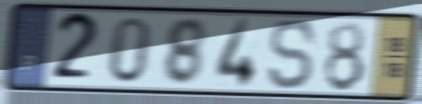0: (106, 15, 153, 85)
2: (48, 10, 104, 88)
4: (213, 14, 259, 91)
8: (320, 19, 372, 93), (161, 15, 209, 88)
S: (267, 16, 318, 93)
